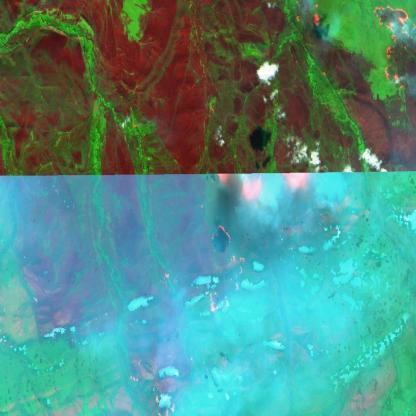fire: (126, 214, 248, 416), (212, 165, 314, 209), (373, 0, 416, 98), (288, 0, 323, 31)
